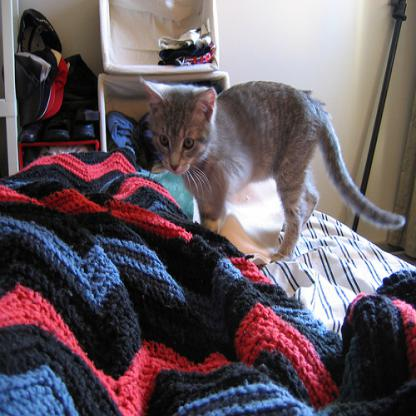cat: (145, 81, 408, 263)
